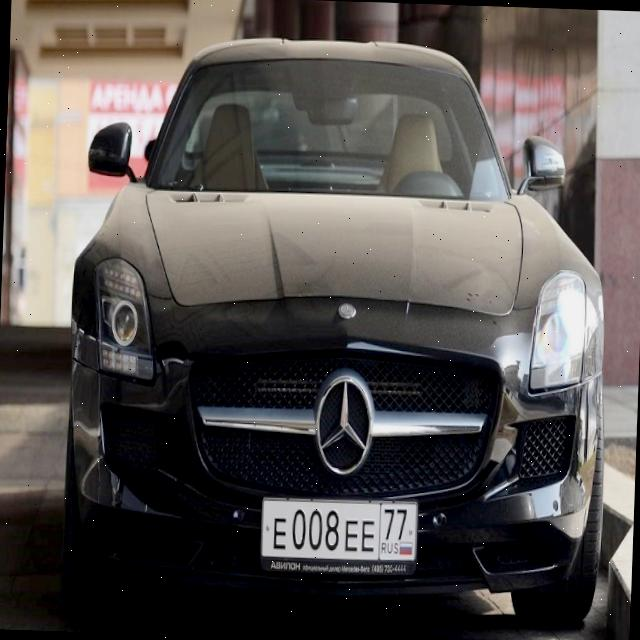number-plates: (257, 492, 419, 586)
